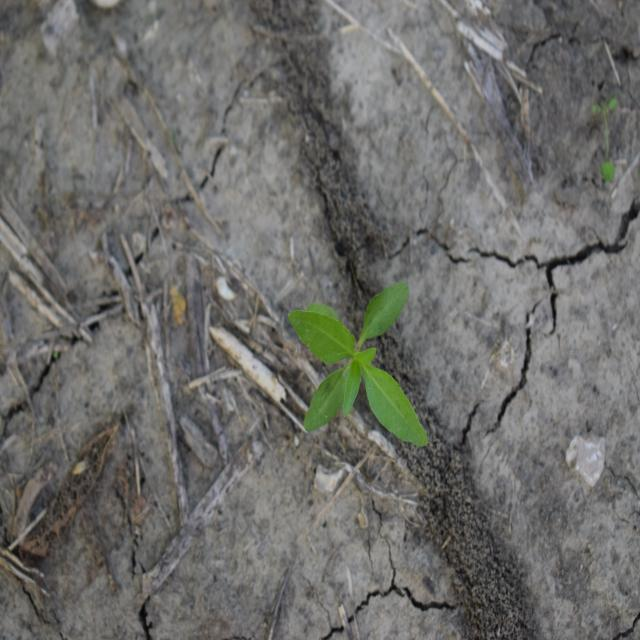Eclipta: (287, 281, 429, 448)
